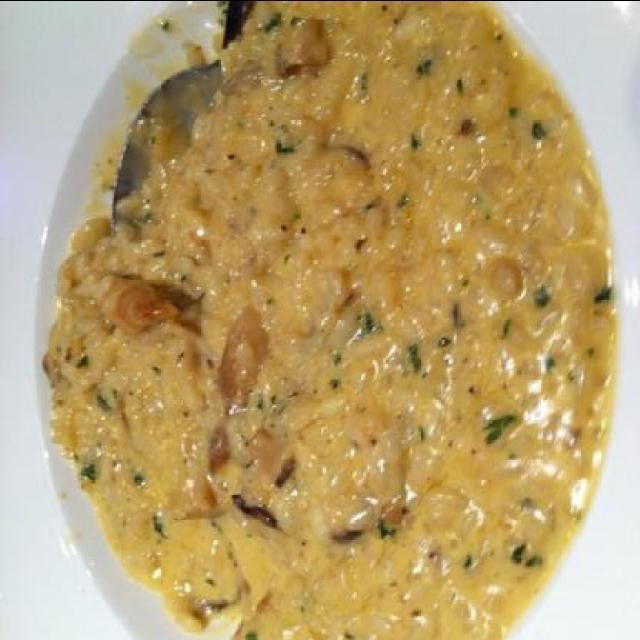Risotto: (48, 17, 594, 629)
